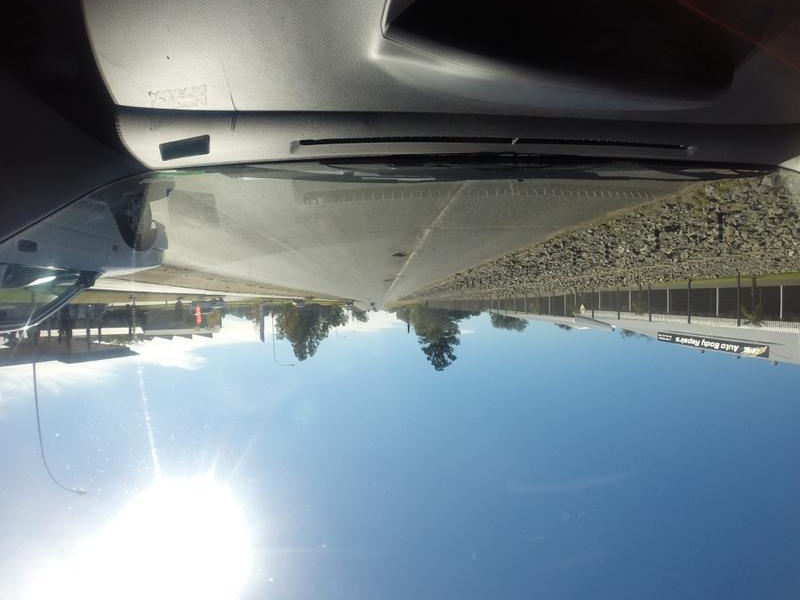pothole: (386, 252, 411, 257), (377, 278, 395, 282)
